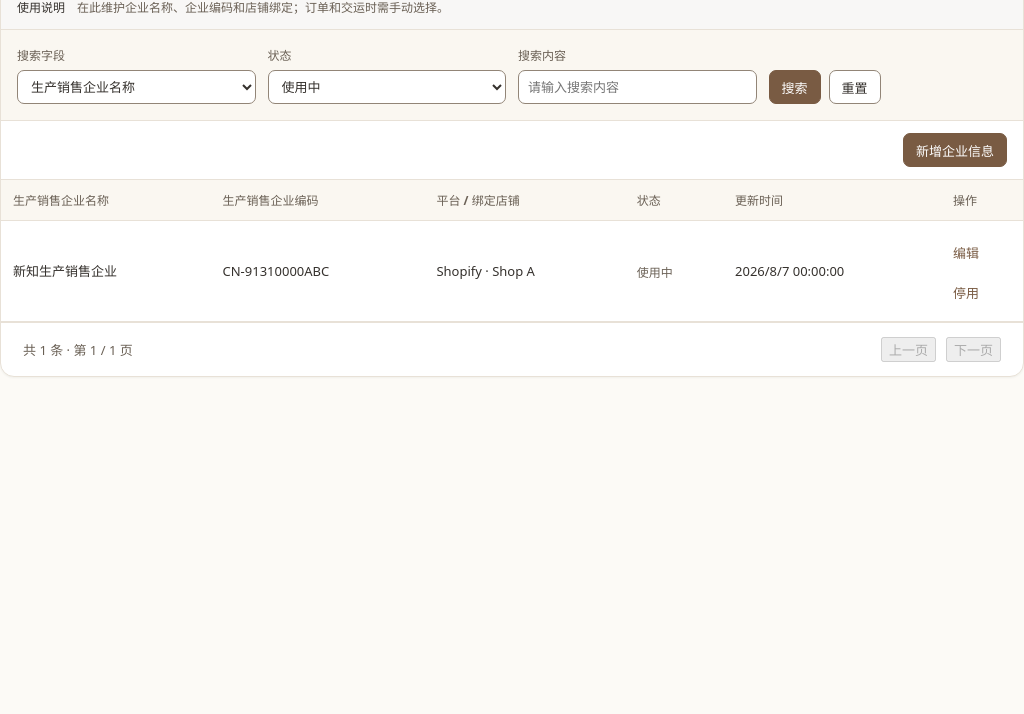
Test: logistics declaration entity management › creates an entity with searchable shop selection and clear feedback
Expected: the text "新知生产销售企业" is shown, [1,221,210,322]
Click the button "新增企业信息" at (955, 150), box [903,133,1007,167]
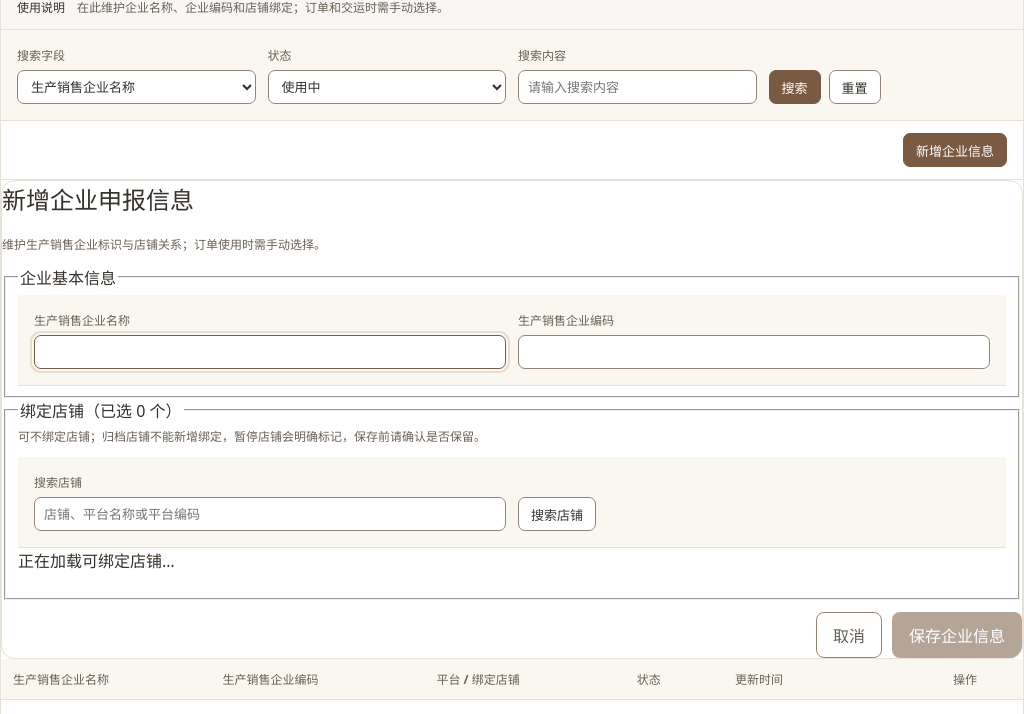
Type " 深圳生产企业 " into the field labelled "生产销售企业名称" at (270, 352), box [34,335,506,369]
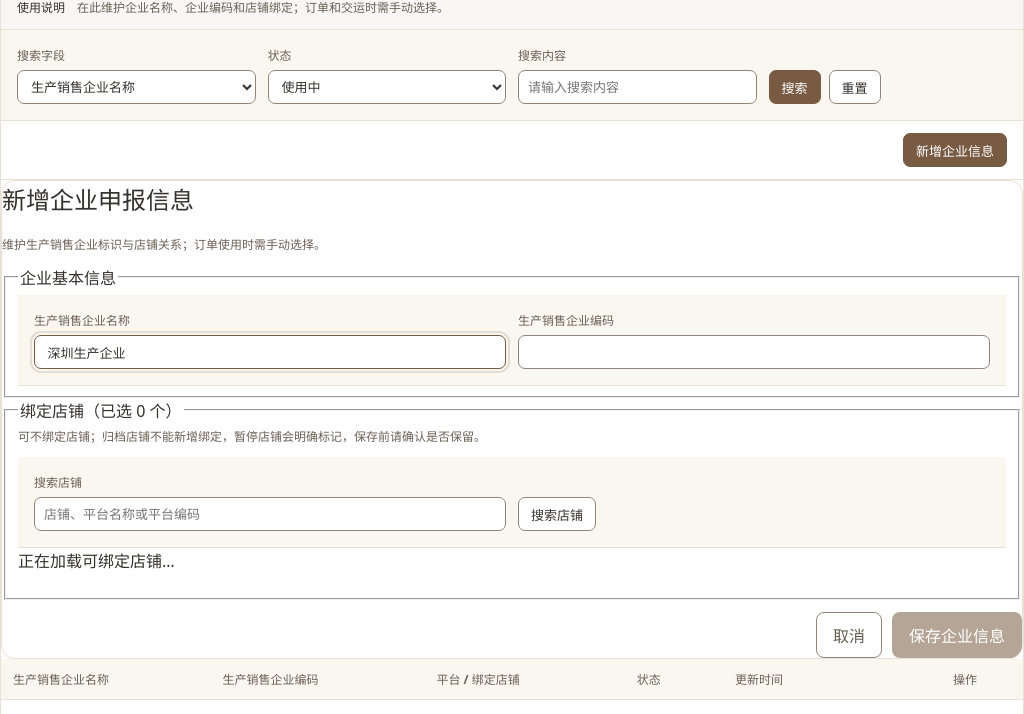
Type "cn-shenzhen-1" into the field labelled "生产销售企业编码" at (754, 352), box [518,335,990,369]
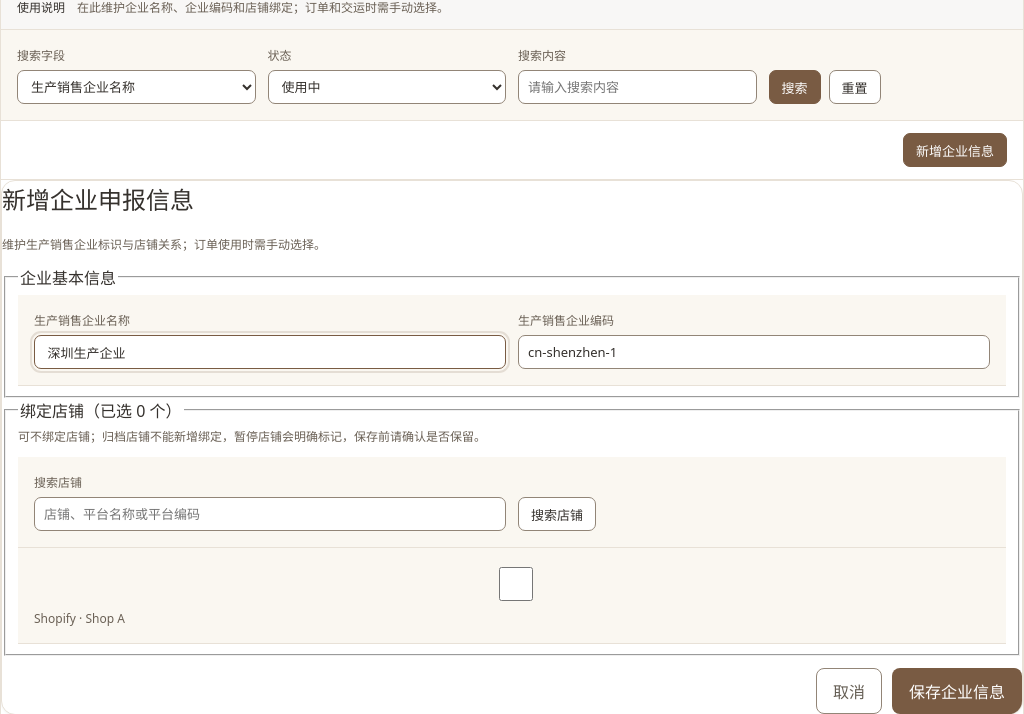
Click the checkbox labelled "Shopify · Shop A" at (516, 584), box [38,567,994,601]
(page scrolled)
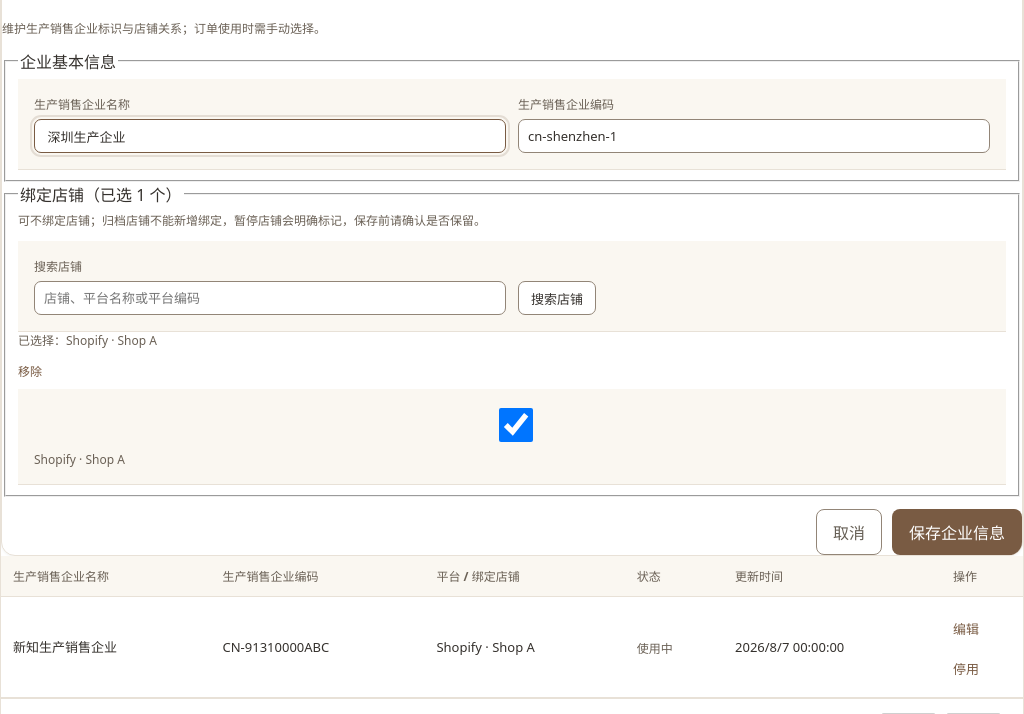
Click the button "保存企业信息" at (957, 532), box [892,510,1022,556]
(page scrolled)
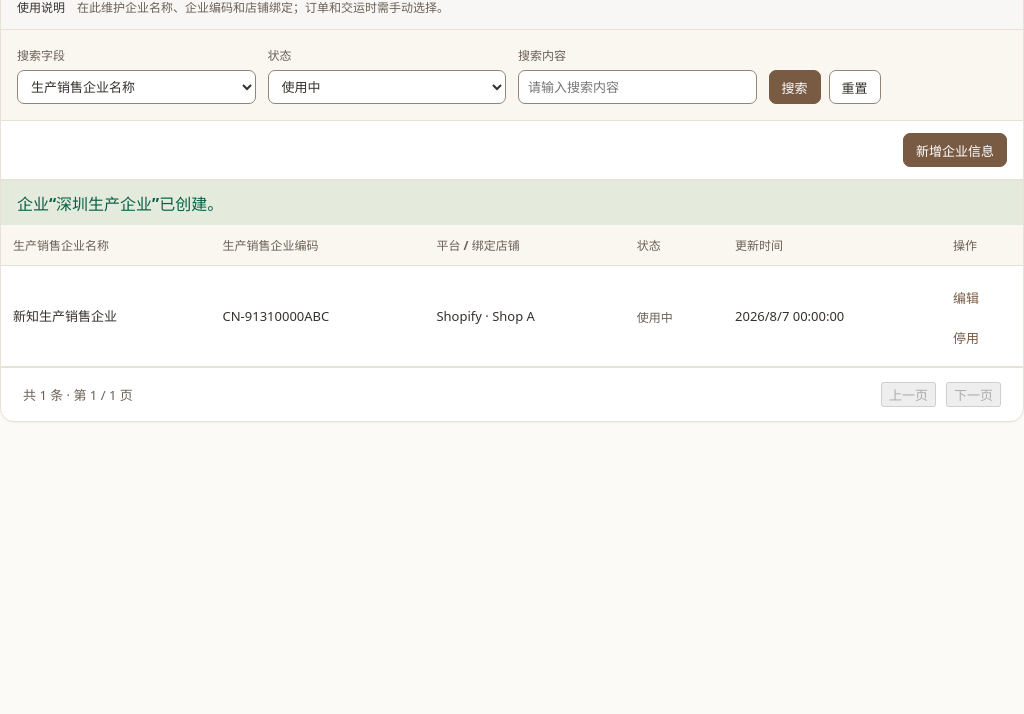
Expected: the text "企业“深圳生产企业”已创建。" is shown, [1,180,1023,225]
